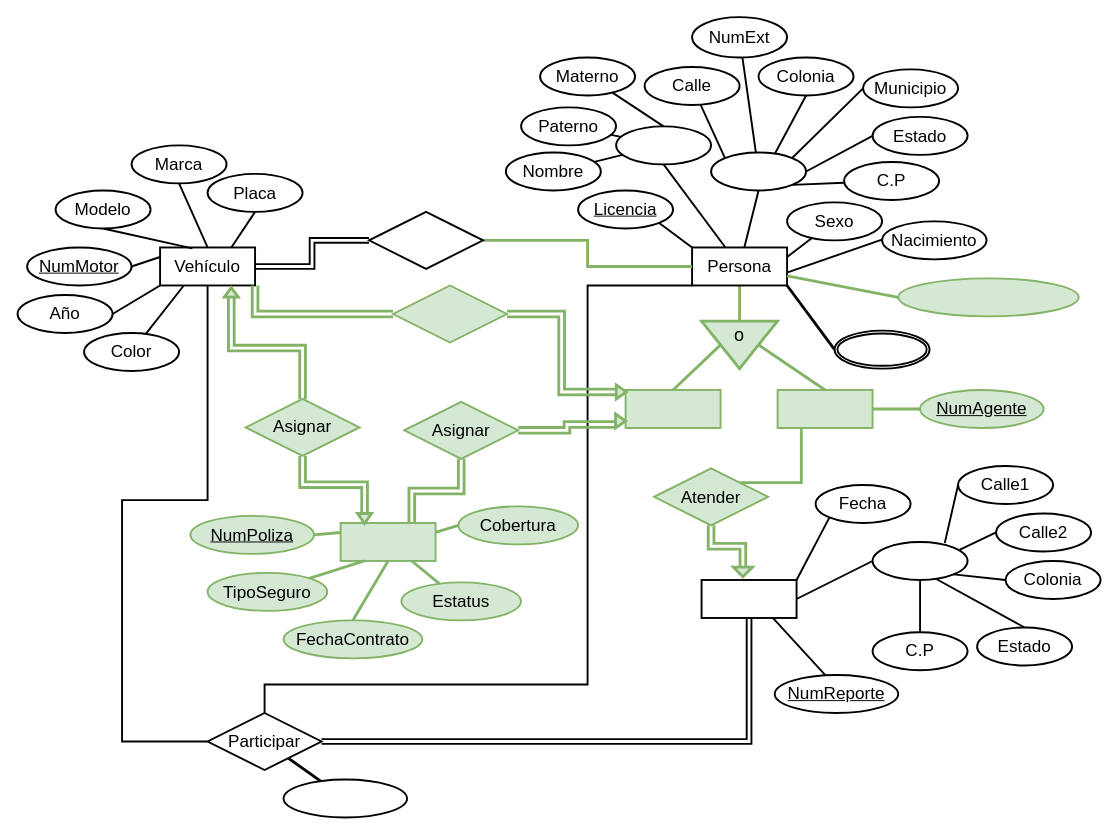
The diagram is 1117 pixels wide and 835 high, and some of its shapes have lost their labels. The box of each missing label's shape, as (x1, y1, x2, y2) in pixels:
Accidente: (700, 579, 797, 618)
Agente: (776, 389, 873, 428)
Dirección: (710, 151, 807, 191)
Dueño: (624, 389, 721, 428)
Manejar: (368, 210, 484, 269)
MontoDaño: (282, 778, 408, 818)
NombreC: (615, 125, 712, 165)
ParentescoDueño: (897, 277, 1079, 317)
Póliza: (339, 522, 436, 561)
Teléfono: (833, 329, 930, 369)
Tener: (392, 284, 507, 343)
Ubicación: (871, 541, 968, 580)
